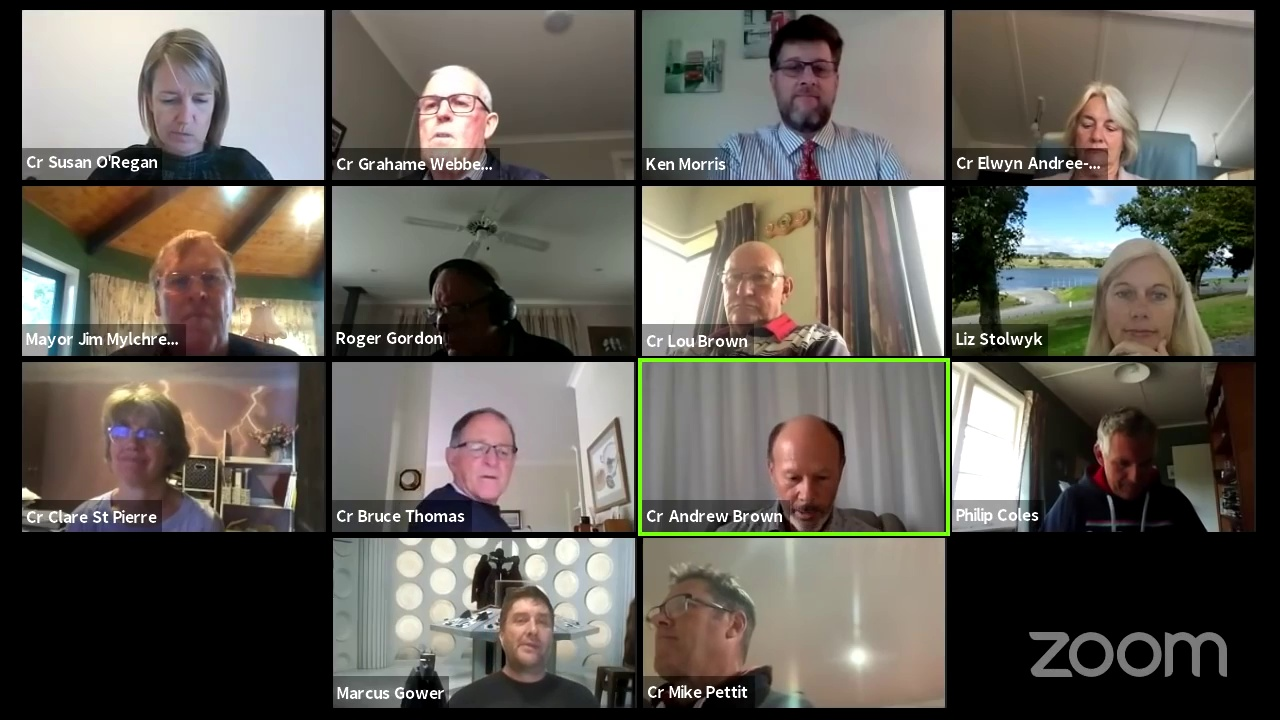Distracted: (130, 28, 235, 156), (653, 570, 756, 678), (763, 416, 857, 524), (425, 250, 512, 347), (1081, 406, 1174, 496), (1061, 85, 1143, 156)
Not Distracted: (394, 61, 495, 165), (151, 239, 248, 339), (93, 384, 183, 491), (1099, 250, 1186, 353), (447, 408, 526, 500), (713, 247, 801, 323), (770, 43, 842, 130), (497, 584, 561, 675)
